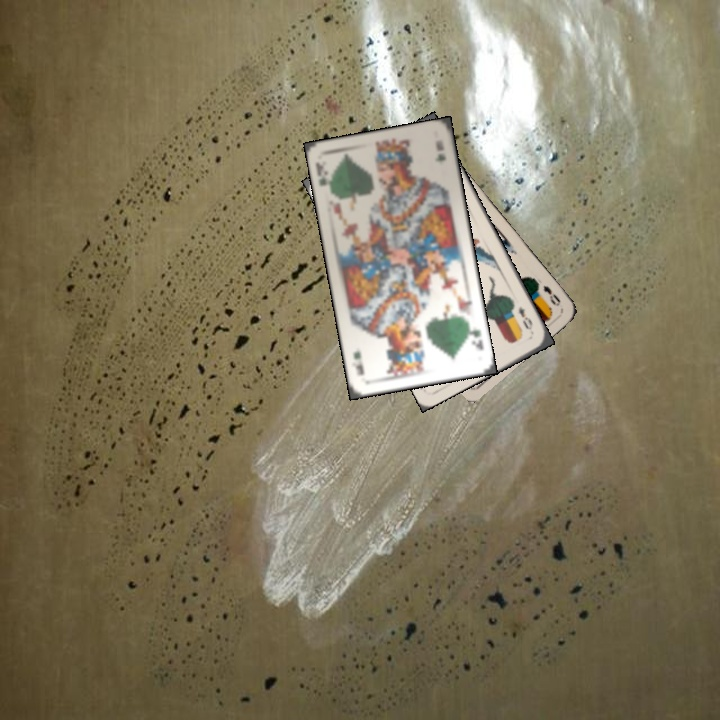EO: (514, 302, 536, 336), (539, 281, 563, 309)
GK: (311, 157, 334, 195), (465, 320, 487, 352)
